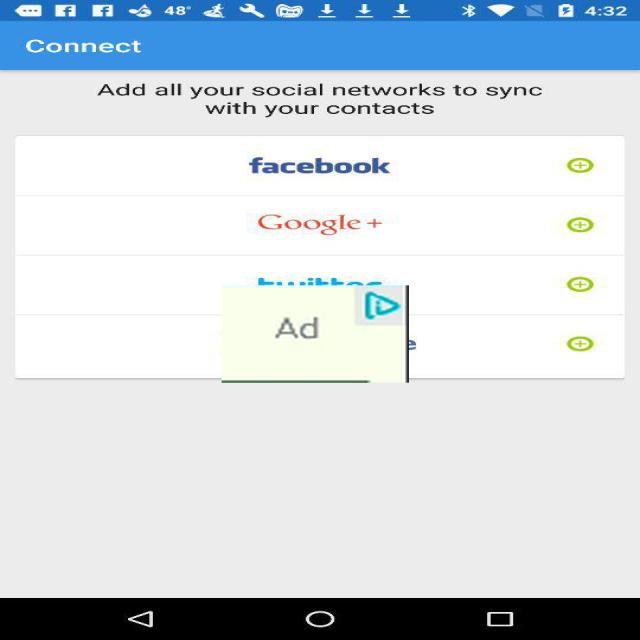sneaking: (222, 285, 409, 383)
